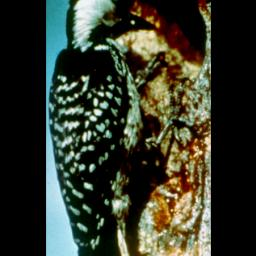Woodpecker: (48, 0, 201, 256)
